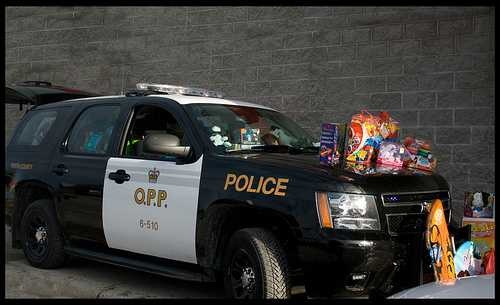Police Car: (22, 62, 491, 305)
